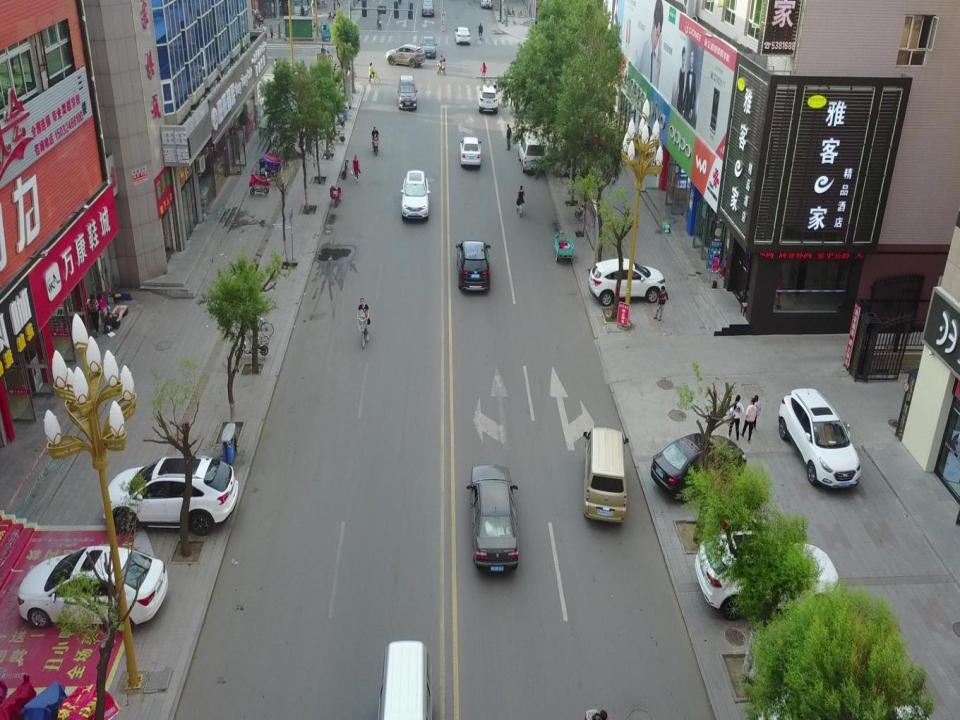car: (18, 545, 169, 631), (696, 530, 839, 616), (103, 454, 238, 534), (778, 388, 860, 488), (649, 432, 747, 501), (468, 464, 519, 571), (589, 256, 666, 306), (455, 240, 490, 291), (400, 170, 431, 219), (384, 43, 426, 68), (397, 75, 418, 110), (459, 136, 481, 166), (479, 85, 499, 113), (421, 36, 437, 58), (455, 26, 470, 44), (421, 0, 435, 16)
van: (582, 426, 629, 524), (378, 641, 434, 719), (518, 134, 545, 172)
